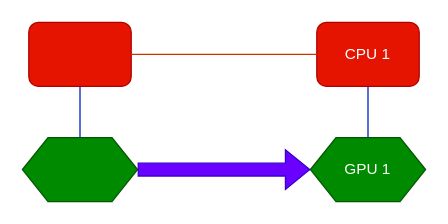
Image size: 448x224. Some labels were removed from this diagram. Here are the shapes that lost their labels. From the top down, the centre of each, then its label:
At point (79, 53): "CPU 0".
At point (79, 169): "GPU 0".
